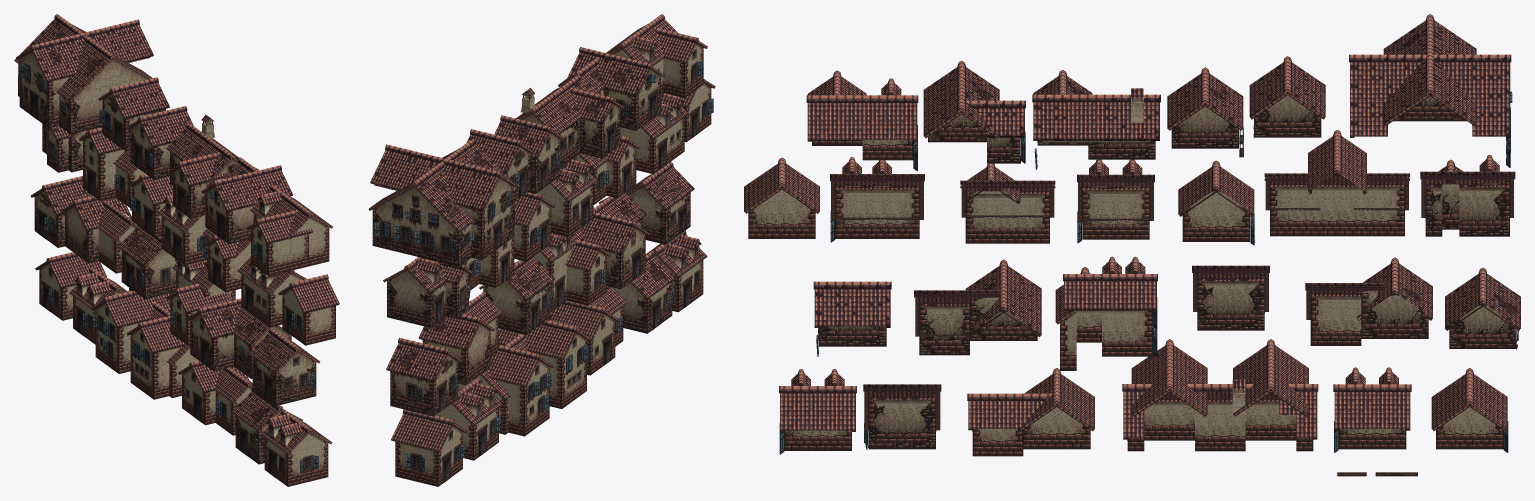
The model's file is MbdMD_Co_T_Cliff_L_B_Build_03.FBX.
The picture shows the model from 3 angles, left to right: view 1: azimuth 30°, elevation 25°; view 2: azimuth 150°, elevation 25°; view 3: azimuth 270°, elevation 25°; orthographic projection. The views are drawn at different scales.
Visible parts, largest first — view 1: MbdMD_Co_T_Cliff_S_House_L, MbdMD_Co_T_Cliff_L_A_House_L_A, MbdMD_T_Cliff_M_B_Pub, MbdMD_Co_T_Cliff_L_B_Pub, MbdMD_Co_T_Cliff_S_Pub, MbdMD_Co_T_Cliff_S_Inn, MbdMD_Co_T_Cliff_L_B_Build_02, MbdMD_T_Cliff_M_B_Build_01, MbdMD_Co_T_Cliff_S_GeneralShop, MbdMD_Co_T_Cliff_L_A_Inn, MbdMD_T_Cliff_M_B_WeaponShop, MbdMD_Co_T_Cliff_M_A_Build_01 (+13 smaller); view 2: MbdMD_Co_T_Cliff_S_House_L, MbdMD_Co_T_Cliff_L_A_House_L_A, MbdMD_Co_T_Cliff_S_Pub, MbdMD_Co_T_Cliff_L_B_WeaponShop, MbdMD_Co_T_Cliff_S_Inn, MbdMD_Co_T_Cliff_L_B_Build_01, MbdMD_Co_T_Cliff_L_A_Build_01, MbdMD_T_Cliff_M_B_Pub, MbdMD_Co_T_Cliff_L_B_Pub, MbdMD_Co_T_Cliff_L_B_Build_02, MbdMD_Co_T_Cliff_L_A_ItemShop, MbdMD_Co_T_Cliff_L_B_Build_03 (+13 smaller); view 3: MbdMD_Co_T_Cliff_L_A_House_L_A, MbdMD_Co_T_Cliff_S_House_L, MbdMD_Co_T_Cliff_M_A_Build_01, MbdMD_Co_T_Cliff_L_A_ItemShop, MbdMD_Co_T_Cliff_S_Pub, MbdMD_Co_T_Cliff_L_B_Pub, MbdMD_Co_T_Cliff_L_A_Inn, MbdMD_Co_T_Cliff_L_B_Build_02, MbdMD_T_Cliff_M_B_Pub, MbdMD_Co_T_Cliff_S_Inn, MbdMD_Co_T_Cliff_M_A_Odette, MbdMD_Co_T_Cliff_L_B_WeaponShop (+13 smaller).
Part boxes in pixels (x1,y1,x2,y2): MbdMD_Co_T_Cliff_S_House_L: (14, 14, 153, 134); MbdMD_Co_T_Cliff_L_A_House_L_A: (92, 288, 198, 399); MbdMD_T_Cliff_M_B_Pub: (247, 184, 332, 275); MbdMD_Co_T_Cliff_L_B_Pub: (186, 298, 291, 378); MbdMD_Co_T_Cliff_S_Pub: (166, 114, 239, 218); MbdMD_Co_T_Cliff_S_Inn: (201, 157, 292, 243); MbdMD_Co_T_Cliff_L_B_Build_02: (61, 196, 137, 273); MbdMD_T_Cliff_M_B_Build_01: (261, 409, 332, 486); MbdMD_Co_T_Cliff_S_GeneralShop: (249, 328, 320, 405); MbdMD_Co_T_Cliff_L_A_Inn: (178, 360, 252, 435); MbdMD_T_Cliff_M_B_WeaponShop: (278, 274, 339, 345); MbdMD_Co_T_Cliff_M_A_Build_01: (79, 127, 145, 207); MbdMD_Co_T_Cliff_S_House_L: (368, 138, 518, 266); MbdMD_Co_T_Cliff_L_A_House_L_A: (458, 317, 590, 436); MbdMD_Co_T_Cliff_S_Pub: (516, 74, 624, 166); MbdMD_Co_T_Cliff_L_B_WeaponShop: (383, 257, 472, 327); MbdMD_Co_T_Cliff_S_Inn: (558, 47, 664, 130); MbdMD_Co_T_Cliff_L_B_Build_01: (386, 337, 462, 416); MbdMD_Co_T_Cliff_L_A_Build_01: (391, 409, 467, 486); MbdMD_T_Cliff_M_B_Pub: (606, 14, 707, 97); MbdMD_Co_T_Cliff_L_B_Pub: (579, 192, 649, 289); MbdMD_Co_T_Cliff_L_B_Build_02: (418, 291, 502, 385); MbdMD_Co_T_Cliff_L_A_ItemShop: (518, 229, 610, 311); MbdMD_Co_T_Cliff_L_B_Build_03: (479, 256, 554, 334); MbdMD_Co_T_Cliff_L_A_House_L_A: (1122, 339, 1318, 451); MbdMD_Co_T_Cliff_S_House_L: (1349, 14, 1512, 167); MbdMD_Co_T_Cliff_M_A_Build_01: (1264, 130, 1409, 236); MbdMD_Co_T_Cliff_L_A_ItemShop: (1055, 256, 1157, 370); MbdMD_Co_T_Cliff_S_Pub: (1032, 70, 1160, 169); MbdMD_Co_T_Cliff_L_B_Pub: (914, 259, 1041, 355); MbdMD_Co_T_Cliff_L_A_Inn: (967, 368, 1094, 456); MbdMD_Co_T_Cliff_L_B_Build_02: (1305, 257, 1432, 345); MbdMD_T_Cliff_M_B_Pub: (806, 70, 918, 170); MbdMD_Co_T_Cliff_S_Inn: (923, 60, 1025, 163); MbdMD_Co_T_Cliff_M_A_Odette: (830, 157, 924, 242); MbdMD_Co_T_Cliff_L_B_WeaponShop: (1420, 154, 1515, 236).
Size of the model in its own units: 1063 by 2777 by 4604.
